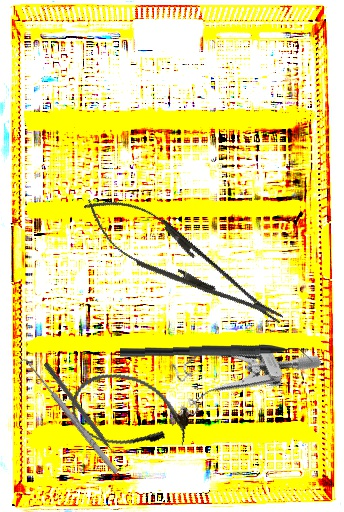Cannula: (65, 363, 196, 462)
Chopper: (119, 341, 314, 371)
Hook Surgical: (16, 355, 121, 479)
Needle Holder: (72, 180, 295, 344)
Pusher: (42, 361, 123, 466)
Speculum: (158, 307, 323, 429)
